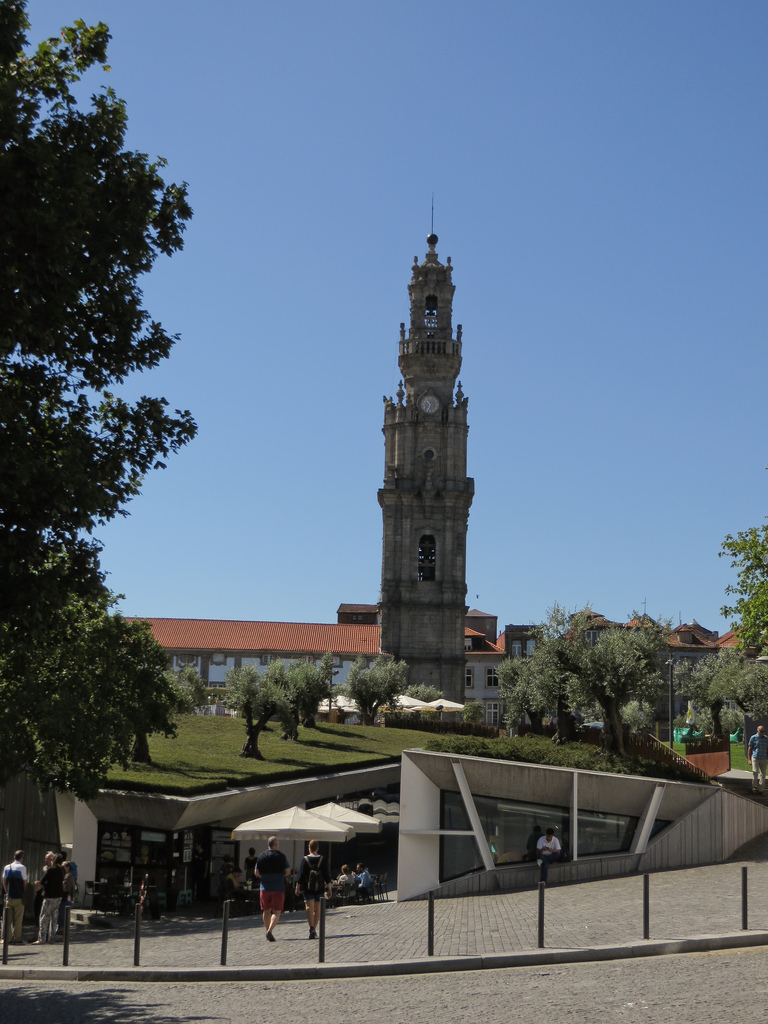clerigos: (375, 186, 478, 707)
